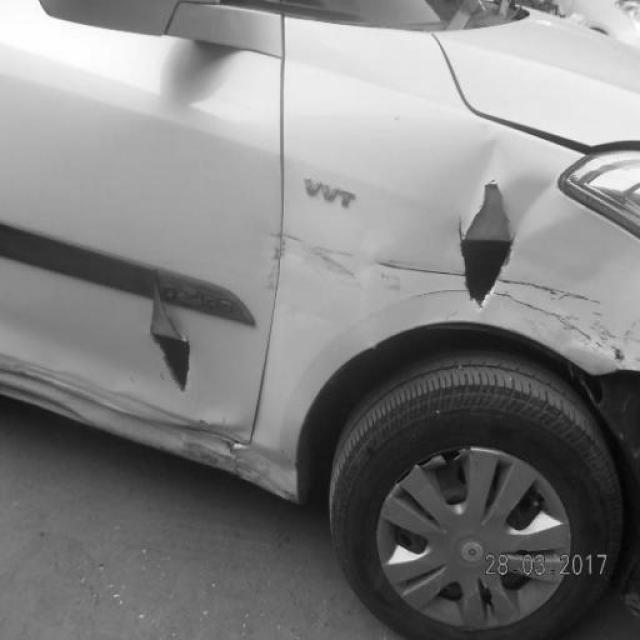dent: (0, 354, 294, 494)
scratch: (263, 230, 460, 303), (501, 271, 640, 367)
tear: (458, 178, 520, 308), (143, 263, 198, 388)
